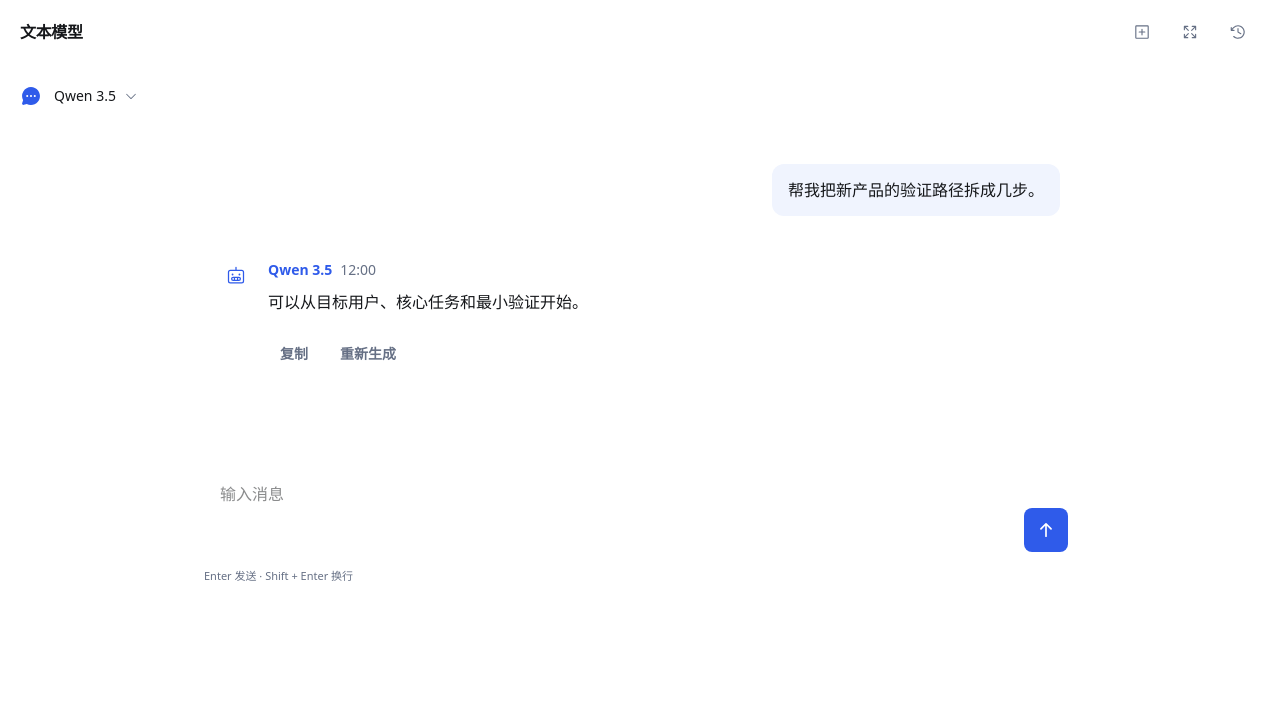
Test: ChatWorkspace › keeps a newer draft typed while an accepted send is hydrating
Type "已提交" into the text box labelled "输入消息". click: coordinates (612, 508)
box: [212, 472, 1012, 544]
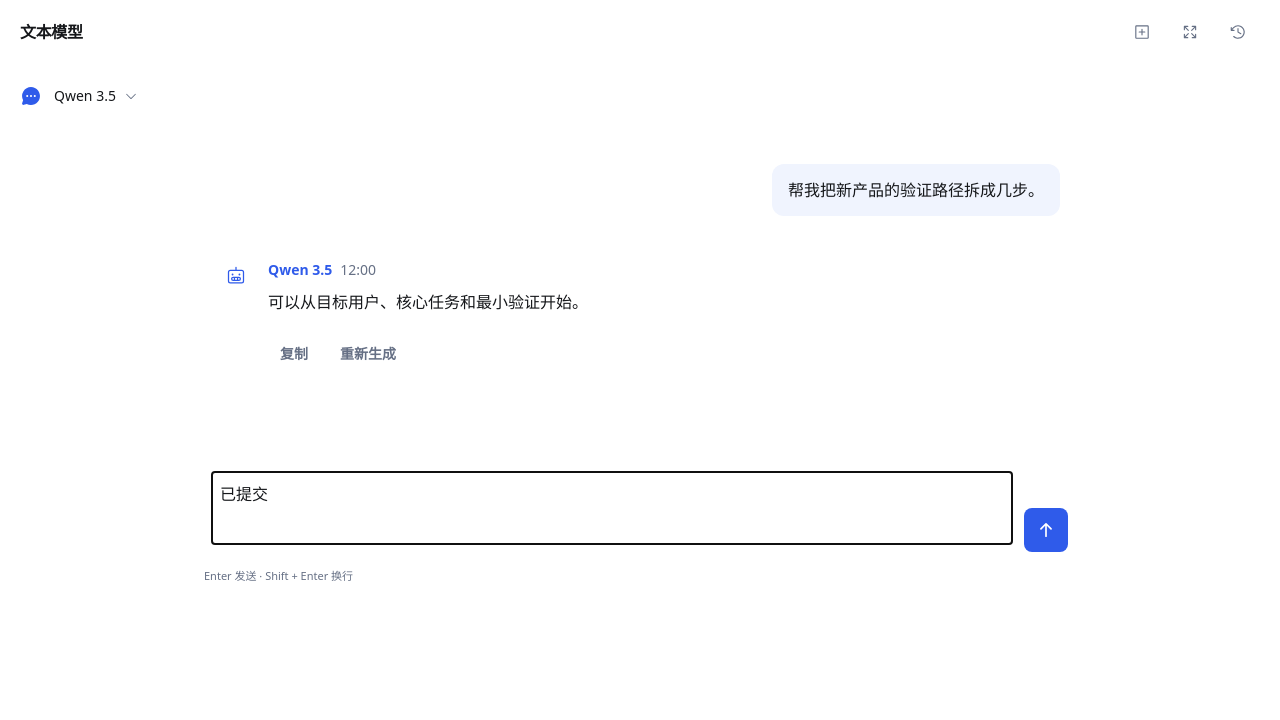
Press Enter
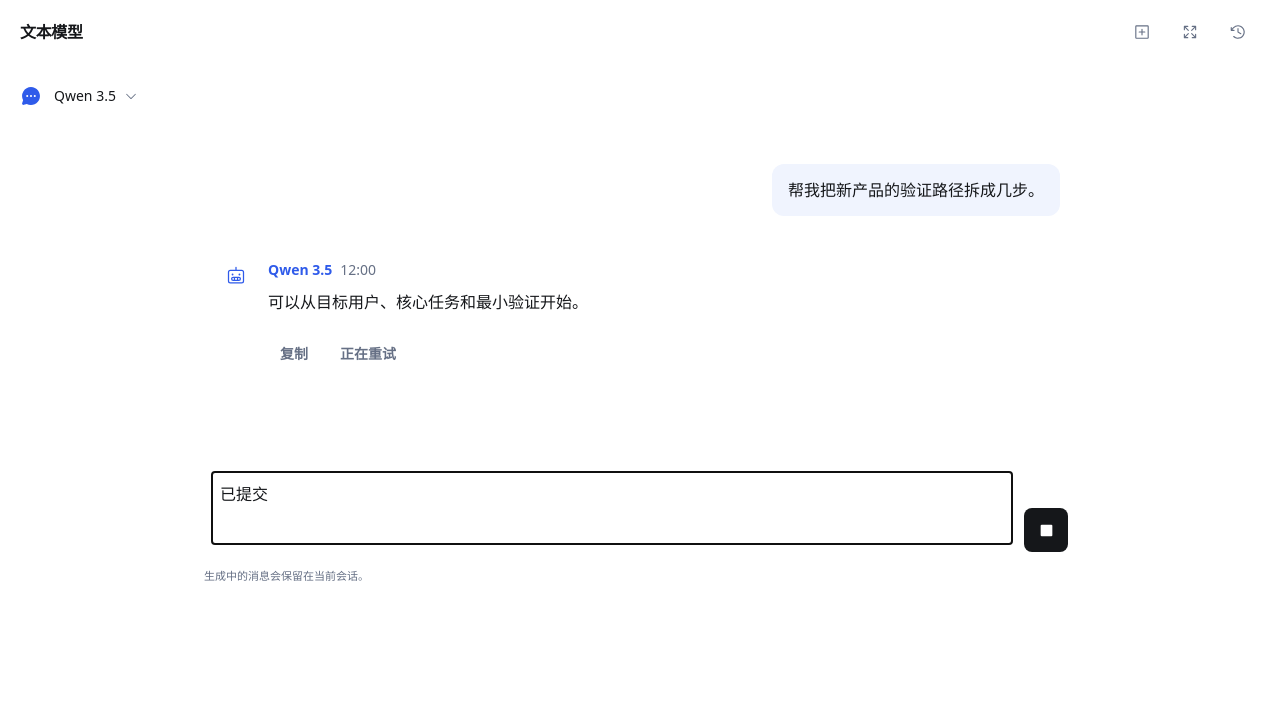
Replace the text in the text box named "输入消息" with "下一条草稿". click: coordinates (612, 508)
box: [212, 472, 1012, 544]
(page scrolled)
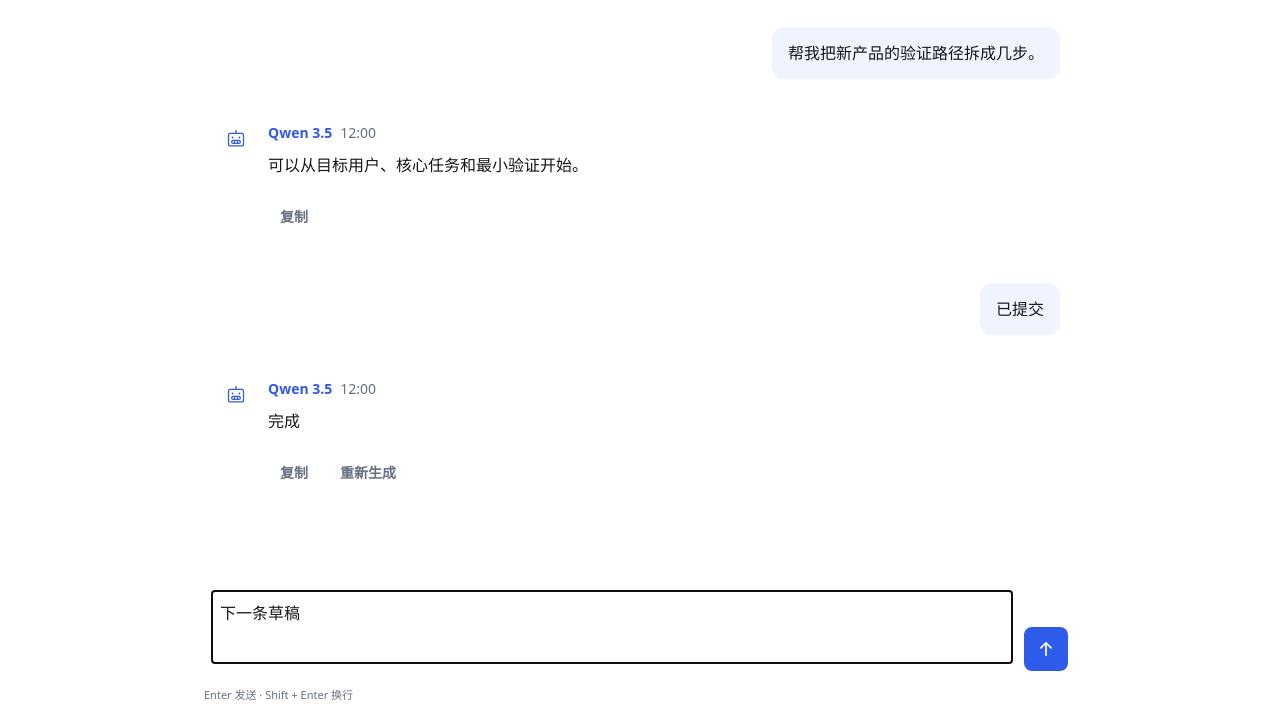
Now the text "完成" is shown, box [268, 410, 300, 432]
